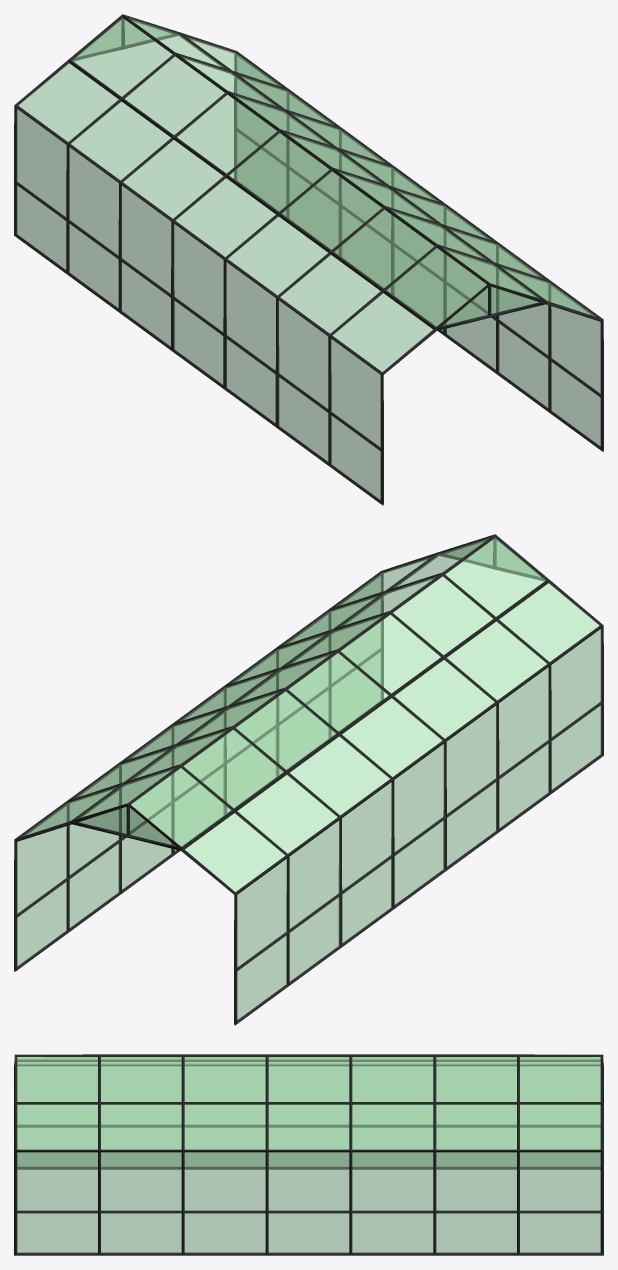
File: GreenHouse.fbx
The picture shows the model from 3 angles, top to bottom: view 1: azimuth 30°, elevation 25°; view 2: azimuth 150°, elevation 25°; view 3: azimuth 270°, elevation 25°; orthographic projection. The views are drawn at different scales.
Visible parts, largest first — view 1: GreenHouse; view 2: GreenHouse; view 3: GreenHouse.
Boxes of the visible parts, <box> form: GreenHouse: <box>14,14,603,505</box>; GreenHouse: <box>14,534,603,1025</box>; GreenHouse: <box>14,1054,603,1255</box>.
Size of what is drawn, in the model's own units: 306 by 257 by 875.
